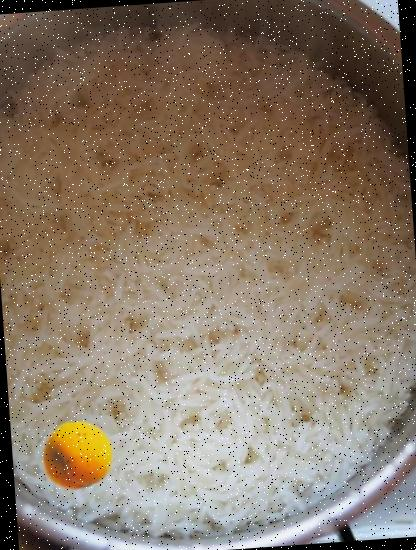Peach: (38, 415, 116, 493)
